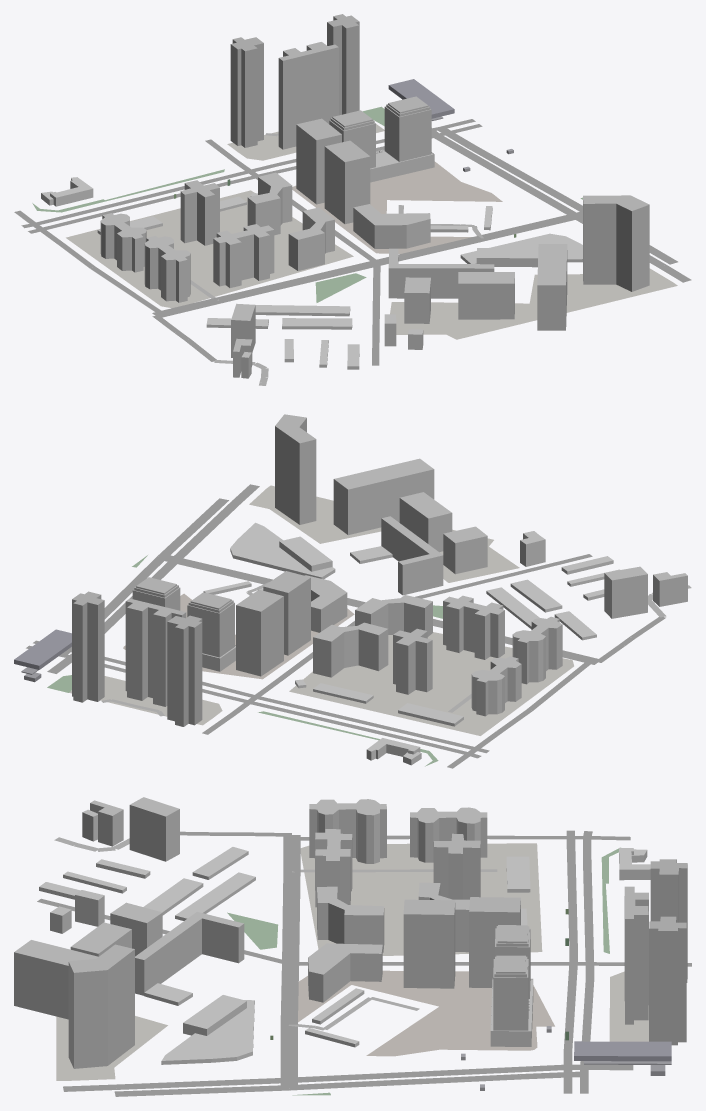
3 views of the same model, one above another, from view 1: azimuth 30°, elevation 25°; view 2: azimuth 150°, elevation 25°; view 3: azimuth 270°, elevation 25° (orthographic). The views are drawn at different scales.
Bounding box in the file's own units: 510 × 104 × 551.
